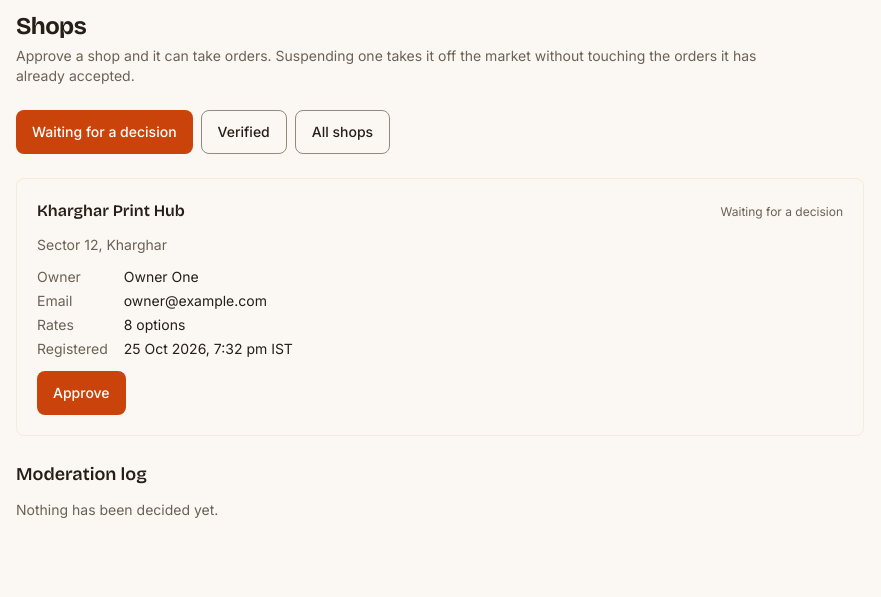
Test: AdminShopsPage › shows the error when the server refuses the approval
The image size is (881, 597).
What coordinates should you click on to do the following:
click the button "Approve"
I would click on:
 (81, 393)
Its box is [37, 371, 126, 415].
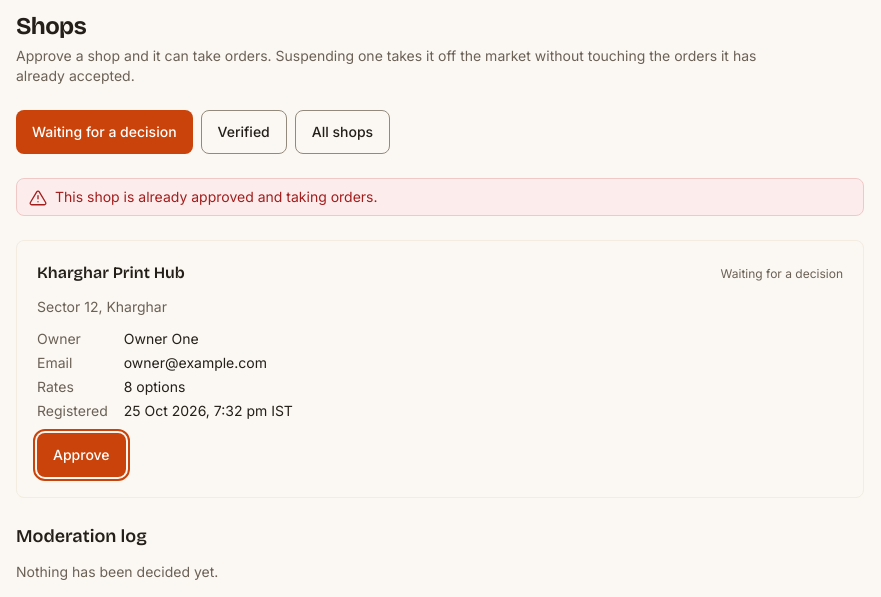
expect the text "This shop is already approved and taking orders." is shown: met, box [55, 187, 378, 207]
